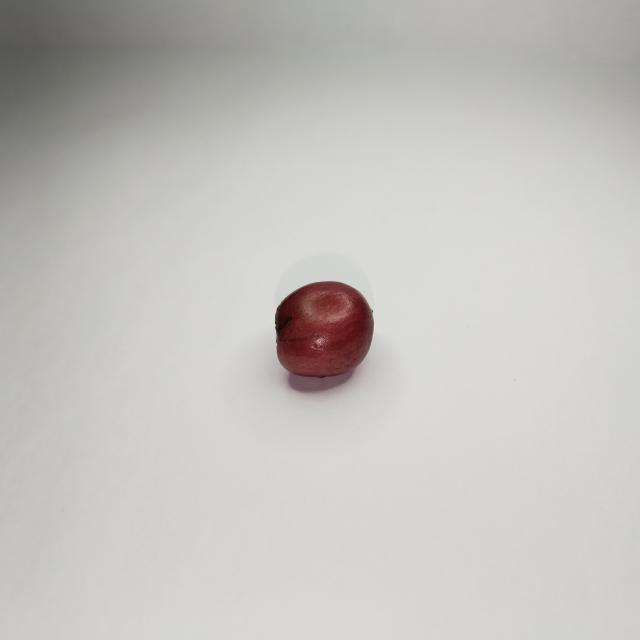Sano: (278, 282, 372, 376)
